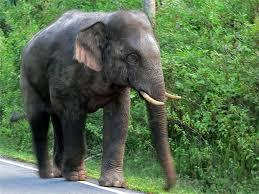elephant: (20, 10, 179, 186)
